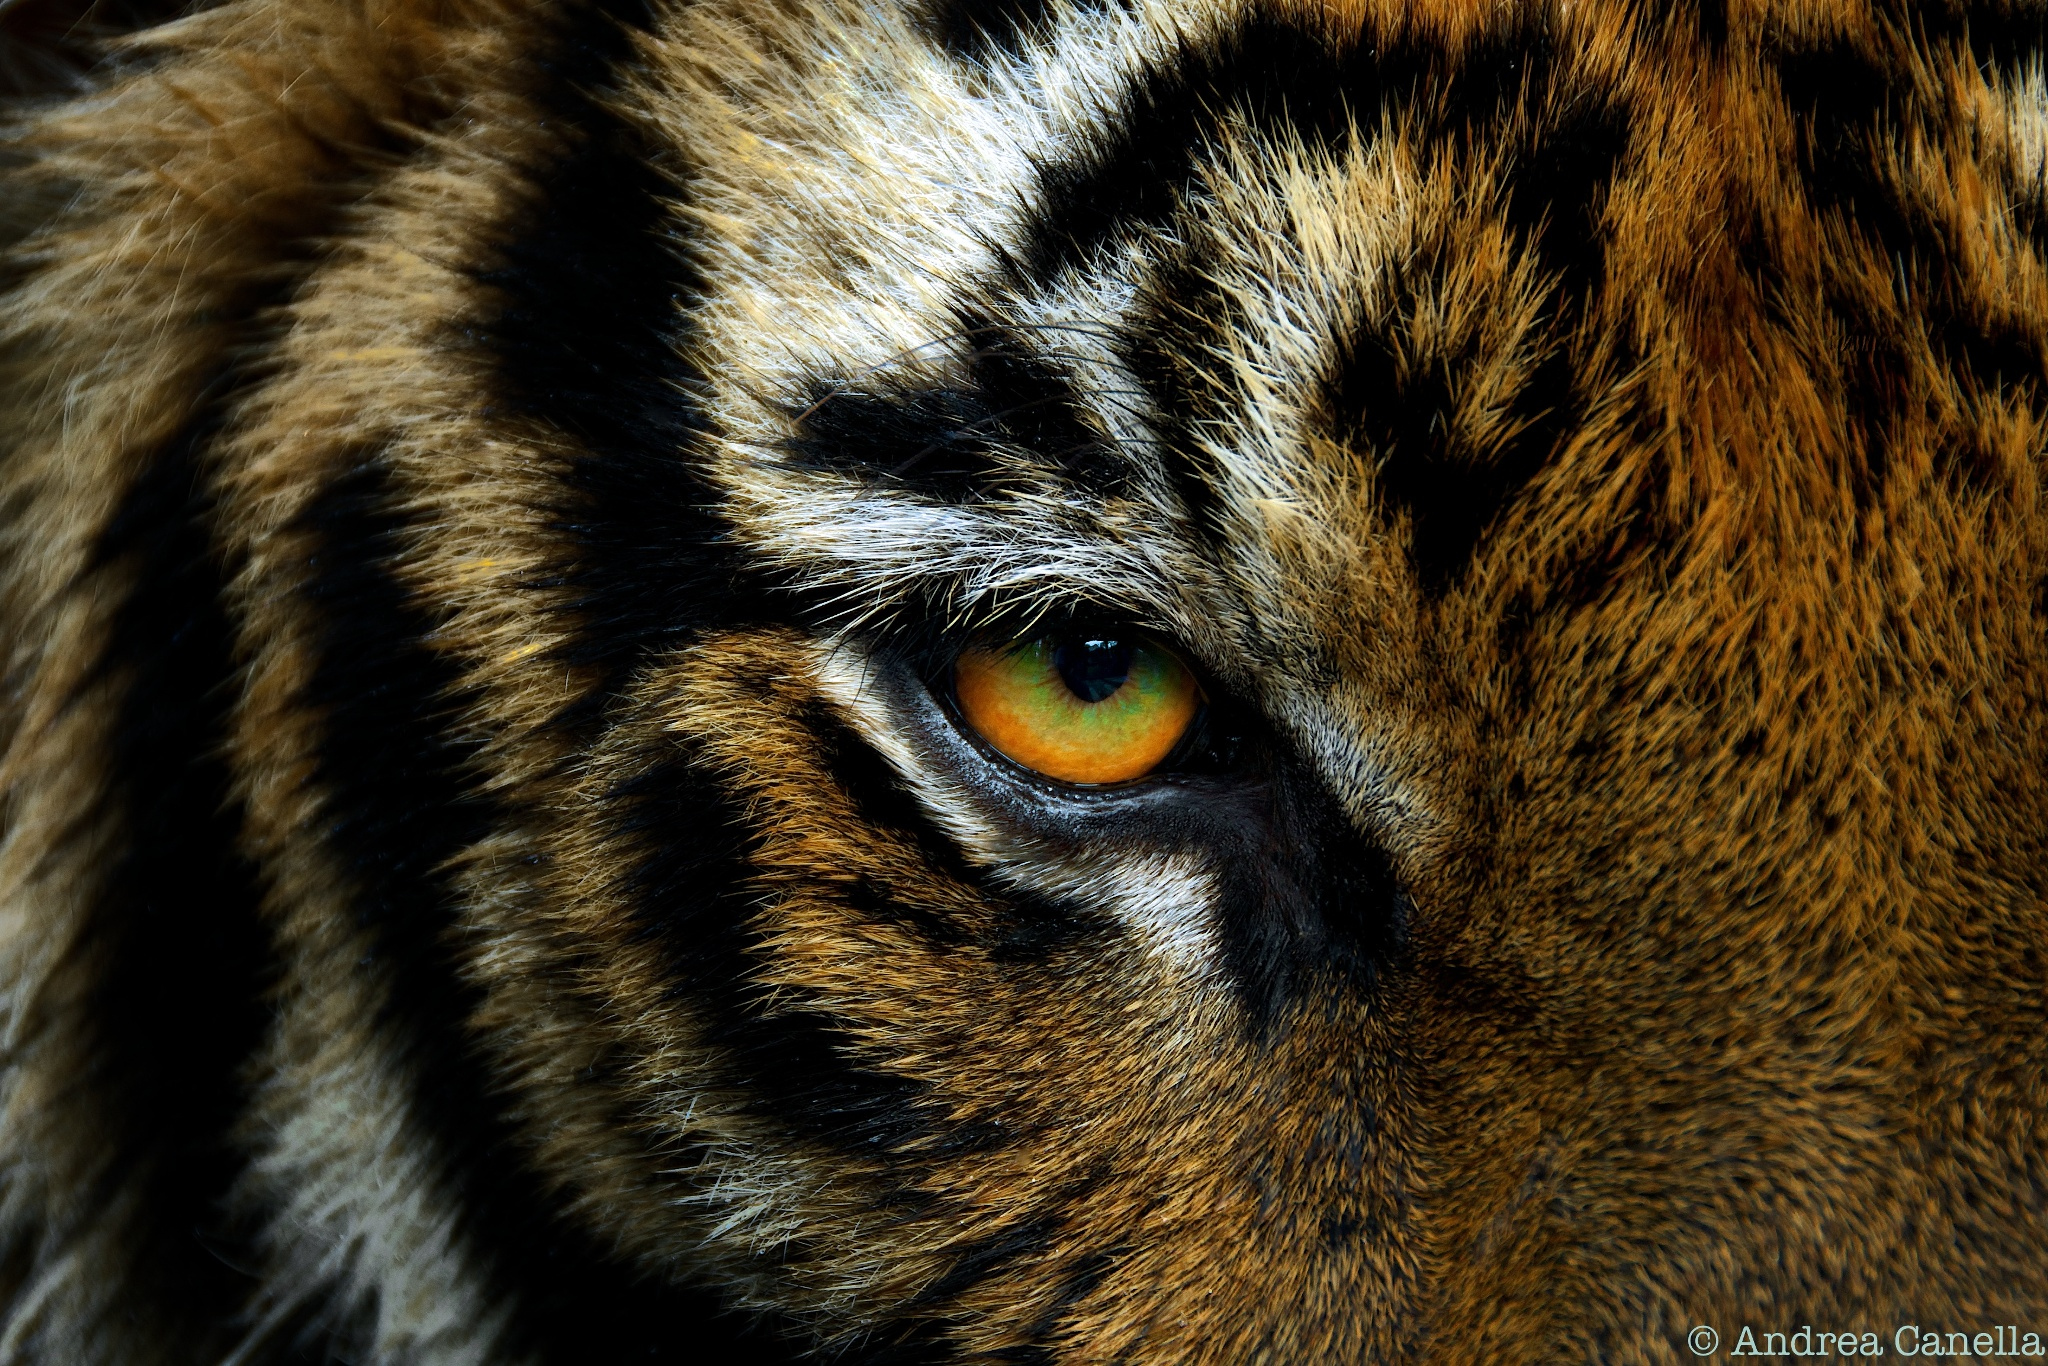tiger: (232, 82, 1978, 1204)
